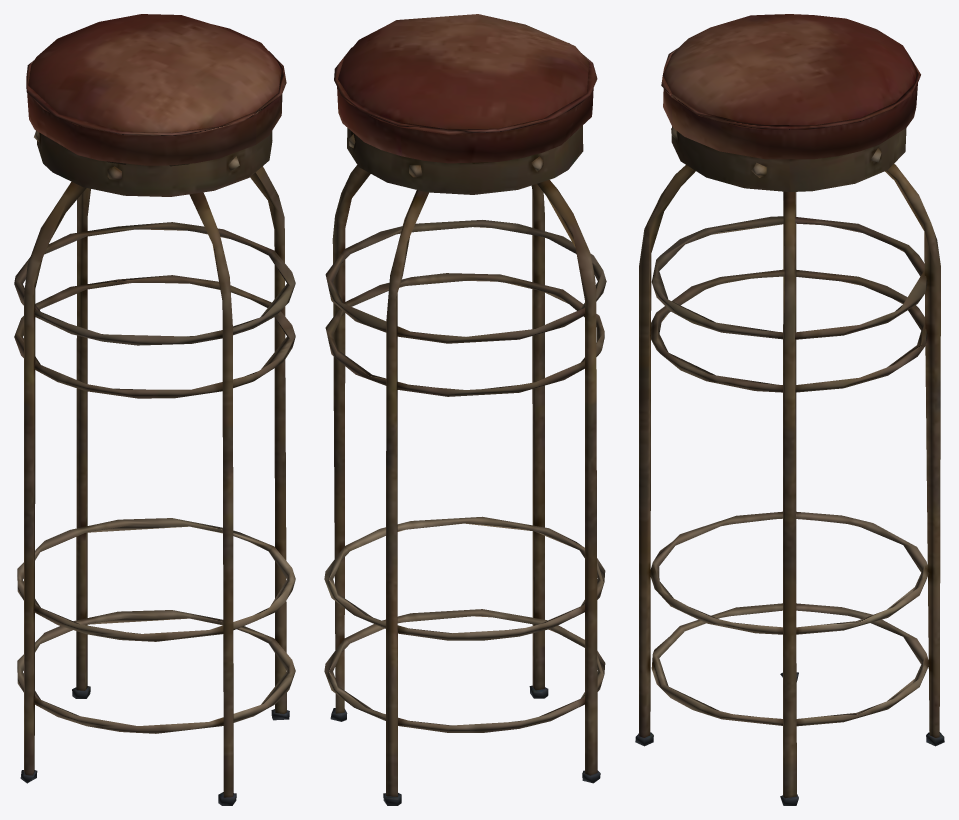
File: stoolMetal_lo.glb
3 renders of one model, left to right at view 1: azimuth 30°, elevation 25°; view 2: azimuth 150°, elevation 25°; view 3: azimuth 270°, elevation 25°, orthographic.
Visible parts, largest first — view 1: metal_stool_01; view 2: metal_stool_01; view 3: metal_stool_01.
Part boxes in pixels (box(x1,y1,x2,y2)): metal_stool_01: box(14, 14, 295, 805); metal_stool_01: box(324, 14, 606, 805); metal_stool_01: box(635, 14, 944, 805).
Size of the model in its own units: 0.3505 by 0.8822 by 0.3538.
Materials: 1 (1 with a texture image).
